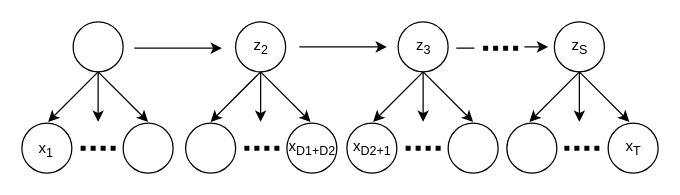
This 680x195 diagram has some shape labels left out. Each missing label, with the box of its shape:
x D1: (122, 122, 173, 173)
x D1+1: (184, 122, 236, 173)
x D2+D3: (447, 122, 498, 173)
z 1: (72, 21, 123, 72)
